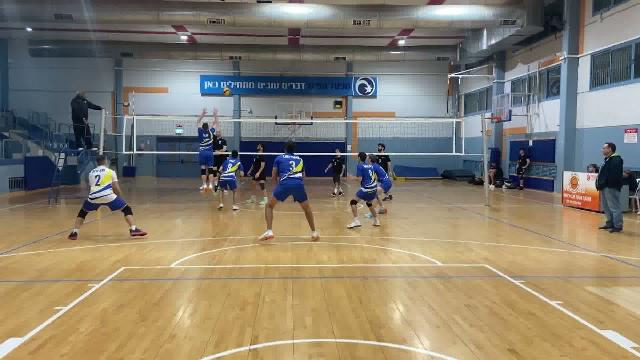ball: (220, 87, 233, 97)
